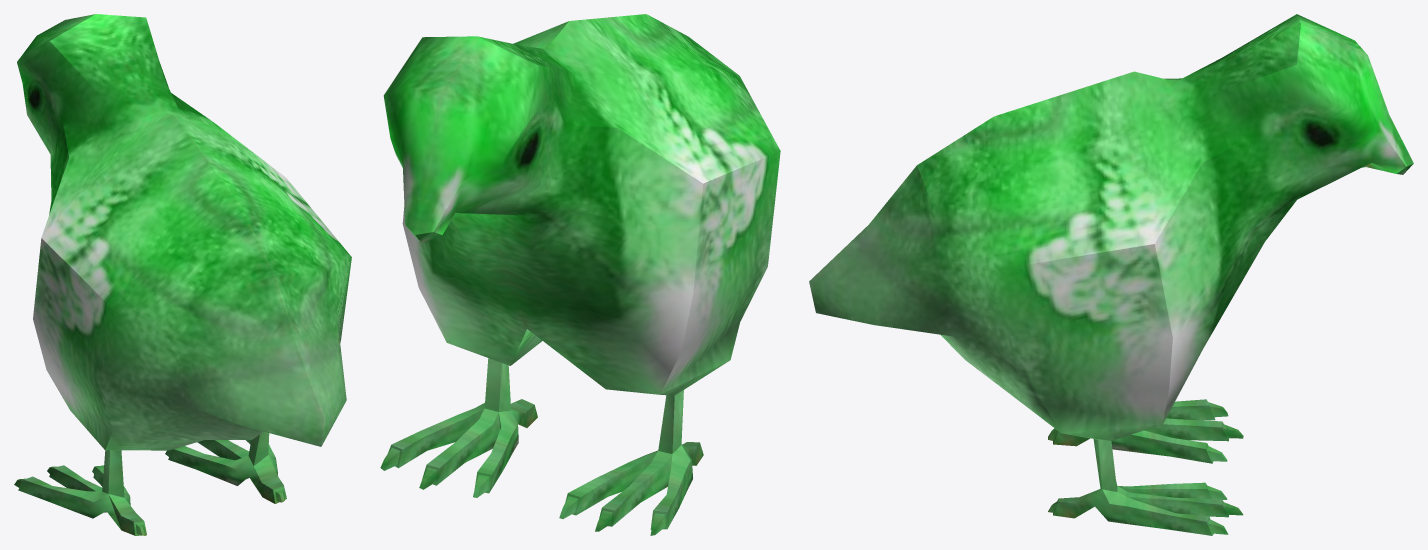
File: verde.gltf
The picture shows the model from 3 angles, left to right: view 1: azimuth 30°, elevation 25°; view 2: azimuth 150°, elevation 25°; view 3: azimuth 270°, elevation 25°; orthographic projection. The views are drawn at different scales.
Visible parts, largest first — view 1: U3DMesh_mat_3_0; view 2: U3DMesh_mat_3_0; view 3: U3DMesh_mat_3_0.
Part boxes in pixels (<box>): U3DMesh_mat_3_0: <box>14,14,351,535</box>; U3DMesh_mat_3_0: <box>380,14,780,535</box>; U3DMesh_mat_3_0: <box>809,14,1413,535</box>.
Bounding box in the file's own units: 0.2473 × 0.4081 × 0.4908.
Materials: 1 (1 with a texture image).
